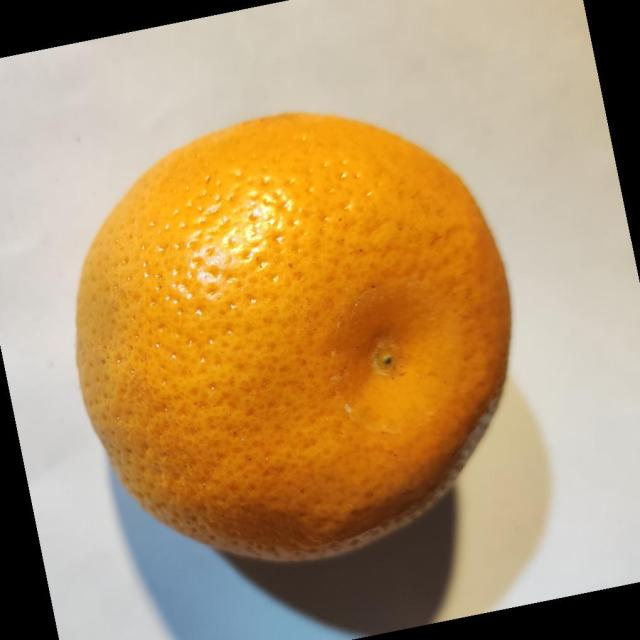fresh orange: (74, 110, 513, 563)
